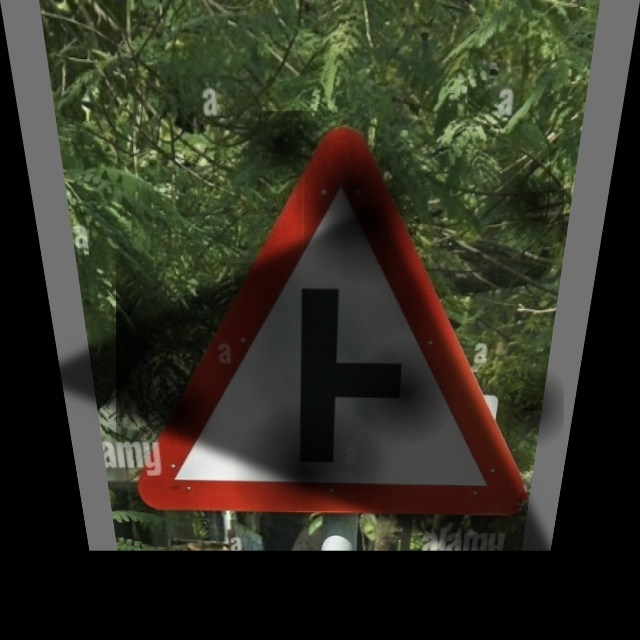Side_Road_Right: (116, 111, 564, 511)
